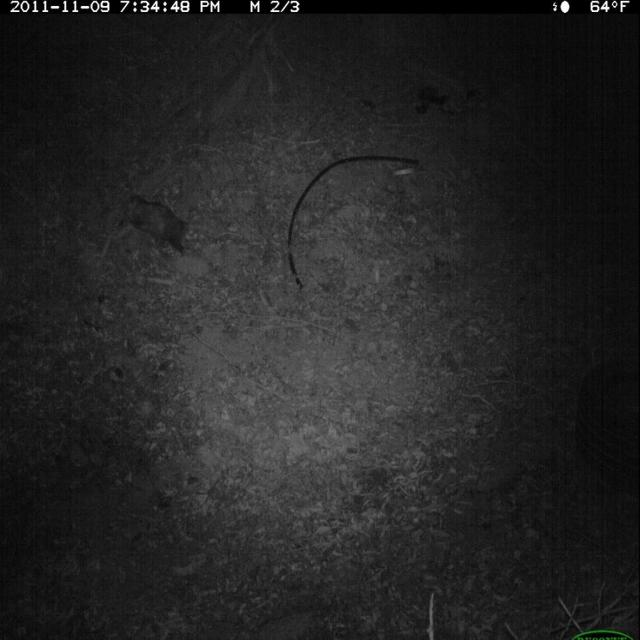opossum: (122, 187, 197, 260)
